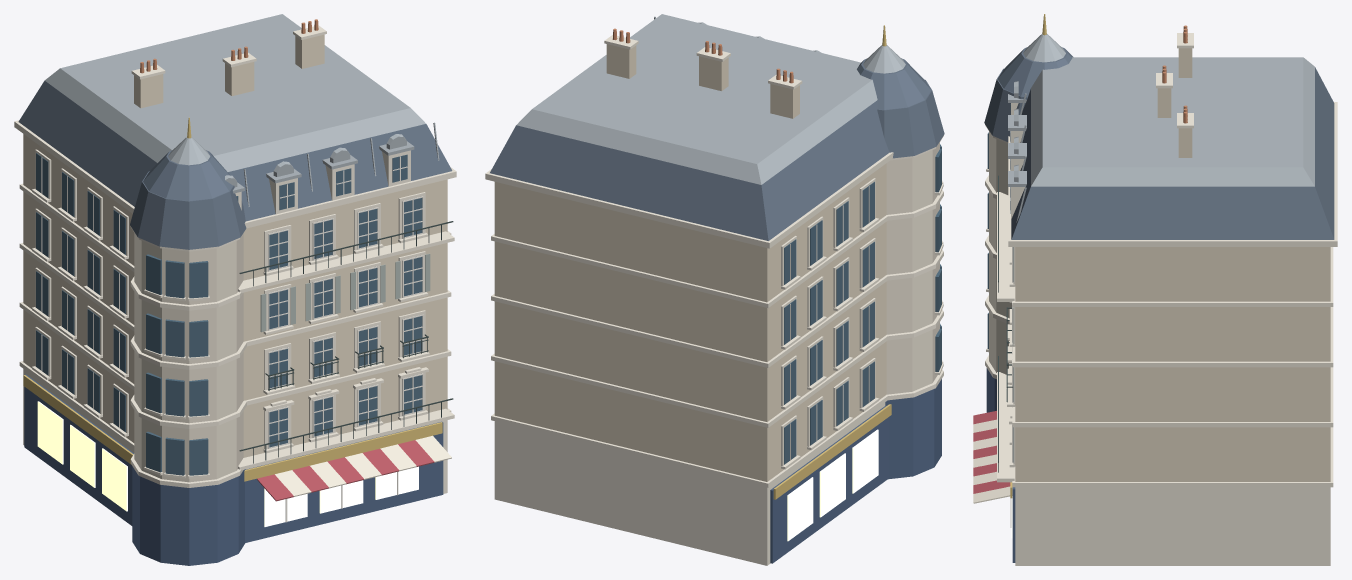
Rendered from Haussmann_Corner.fbx.
3 renders of one model, left to right at view 1: azimuth 30°, elevation 25°; view 2: azimuth 150°, elevation 25°; view 3: azimuth 270°, elevation 25°, orthographic.
Parts seen in each view (by area): view 1: Haussmann_Corner; view 2: Haussmann_Corner; view 3: Haussmann_Corner.
Part boxes in pixels (x1=…): Haussmann_Corner: x1=14, y1=14, x2=456, y2=565; Haussmann_Corner: x1=485, y1=14, x2=944, y2=565; Haussmann_Corner: x1=973, y1=14, x2=1337, y2=565.
Size of the model in its own units: 16.79 by 22.6 by 17.31.
